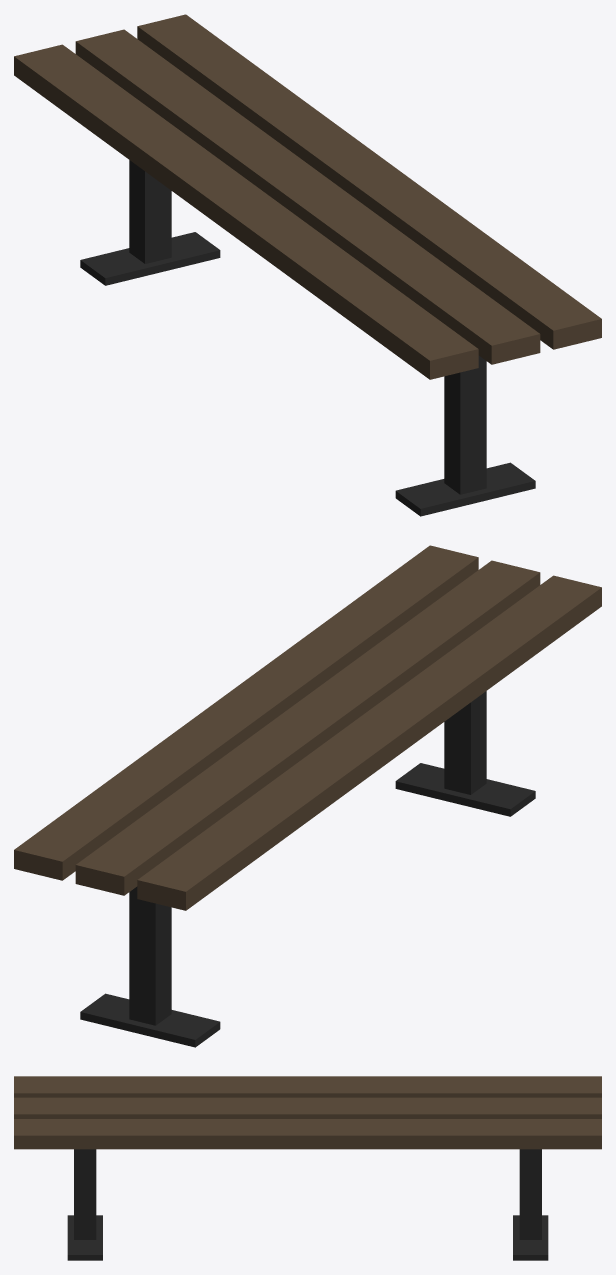
The model's file is SM_benchLocker.glb.
3 views of the same model, one above another, from view 1: azimuth 30°, elevation 25°; view 2: azimuth 150°, elevation 25°; view 3: azimuth 270°, elevation 25° (orthographic). The views are drawn at different scales.
Parts seen in each view (by area): view 1: SM_benchLocker; view 2: SM_benchLocker; view 3: SM_benchLocker.
Boxes of the visible parts, x1,y1,x2,y2 form: SM_benchLocker: (14,14,601,516); SM_benchLocker: (14,545,601,1047); SM_benchLocker: (14,1076,601,1260).
Bounding box in the file's own units: 0.4726 × 0.5 × 1.98.
1 material, 1 textured.
